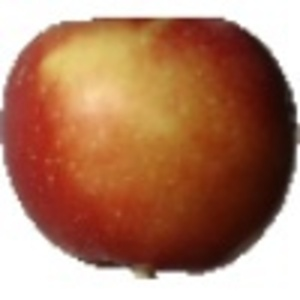maçã braeburn: (1, 13, 299, 272)
